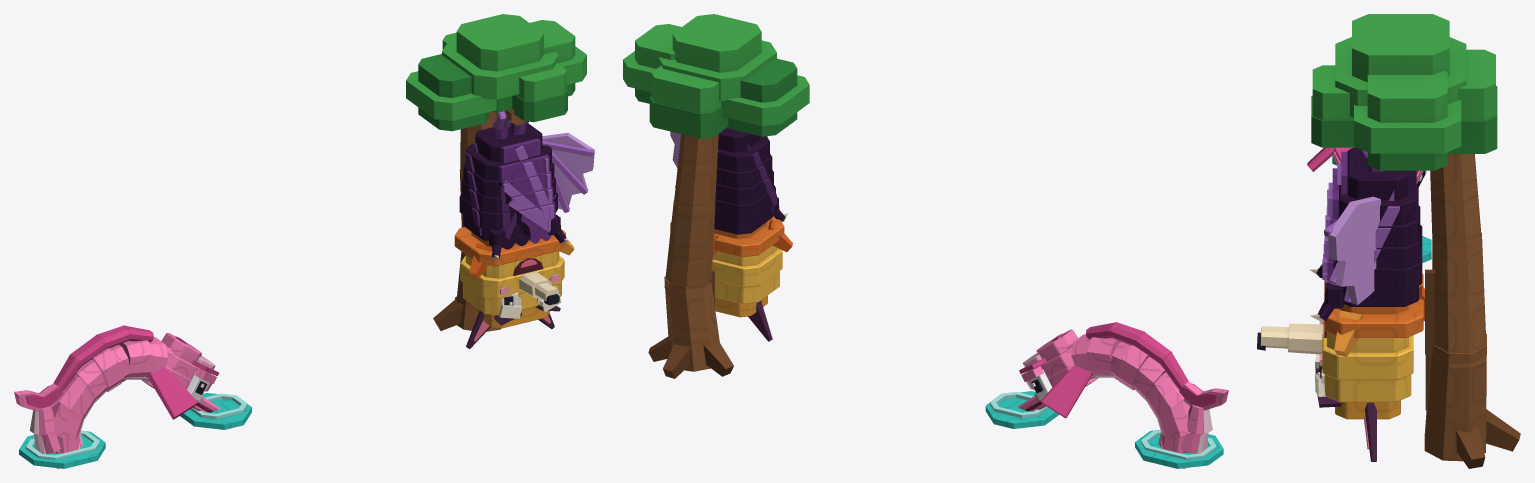
Rendered from Boss6Creatures_bat_boto.fbx.
3 renders of one model, left to right at view 1: azimuth 30°, elevation 25°; view 2: azimuth 150°, elevation 25°; view 3: azimuth 270°, elevation 25°, orthographic. The views are drawn at different scales.
Parts seen in each view (by area): view 1: Art_CocoonFruitBat_Haze, Art_CocoonFruitBat_Body, Art_ArchBoto_Body, Art_CocoonFruitBat_Head, Art_ArchBoto_Haze, Art_CocoonFruitBat_WingOpen, Art_ArchBoto_Head, Art_ArchBoto_Tail, Art_ArchBoto_FlipperL; view 2: Art_CocoonFruitBat_Haze, Art_CocoonFruitBat_Body, Art_ArchBoto_Body, Art_CocoonFruitBat_Head, Art_ArchBoto_Haze, Art_ArchBoto_Head, Art_ArchBoto_Tail, Art_ArchBoto_FlipperR; view 3: Art_CocoonFruitBat_Haze, Art_CocoonFruitBat_Body, Art_CocoonFruitBat_Head, Art_CocoonFruitBat_WingOpen, Art_CocoonFruitBat_ThumbR, Art_CocoonFruitBat_EarL, Art_ArchBoto_FlipperL, Art_ArchBoto_Head.
Part boxes in pixels (x1,y1,x2,y2): Art_CocoonFruitBat_Haze: (406,14,586,331); Art_CocoonFruitBat_Body: (454,111,574,278); Art_ArchBoto_Body: (51,325,172,453); Art_CocoonFruitBat_Head: (460,251,564,328); Art_ArchBoto_Haze: (19,393,251,468); Art_CocoonFruitBat_WingOpen: (542,132,594,212); Art_ArchBoto_Head: (141,333,220,412); Art_ArchBoto_Tail: (14,382,80,468); Art_ArchBoto_FlipperL: (147,367,198,419); Art_CocoonFruitBat_Haze: (623,14,809,378); Art_CocoonFruitBat_Body: (670,127,792,257); Art_ArchBoto_Body: (1066,322,1190,453); Art_CocoonFruitBat_Head: (712,245,782,317); Art_ArchBoto_Haze: (985,391,1223,468); Art_ArchBoto_Head: (1017,329,1098,411); Art_ArchBoto_Tail: (1161,380,1228,468); Art_ArchBoto_FlipperR: (1040,365,1092,418); Art_CocoonFruitBat_Haze: (1311,14,1520,468); Art_CocoonFruitBat_Body: (1322,147,1424,356); Art_CocoonFruitBat_Head: (1257,320,1413,419); Art_CocoonFruitBat_WingOpen: (1324,196,1380,304); Art_CocoonFruitBat_ThumbR: (1310,282,1343,322); Art_CocoonFruitBat_EarL: (1364,402,1376,461); Art_ArchBoto_FlipperL: (1307,147,1334,171); Art_ArchBoto_Head: (1333,147,1426,187).
Bounding box in the file's own units: 8.84 × 4.75 × 2.66.
